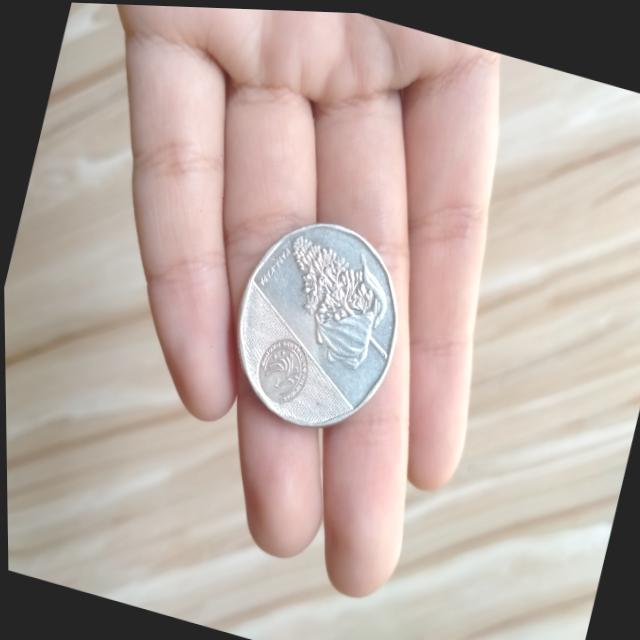10_New_Back: (246, 221, 415, 377)
